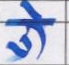e_matra: (20, 1, 44, 18)
